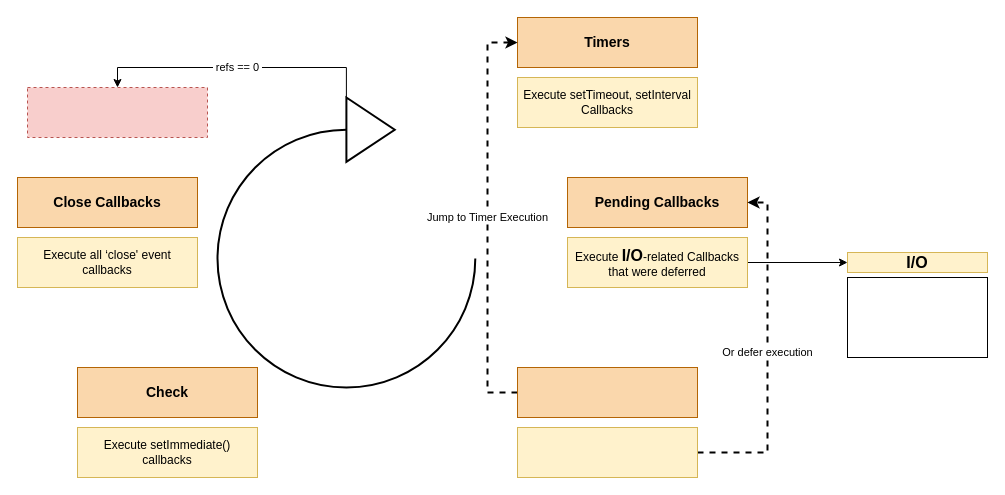
The diagram is 1005 pixels wide and 495 high, and some of its shapes have lost their labels. Each missing label, with the box of its shape:
Input & Output Disk & Network Operations (~Blocking Operations): (846, 276, 988, 358)
Poll: (516, 366, 698, 418)
process.exit: (26, 86, 208, 138)
Retrieve new I/O events, execute their callbacks: (516, 426, 698, 478)
